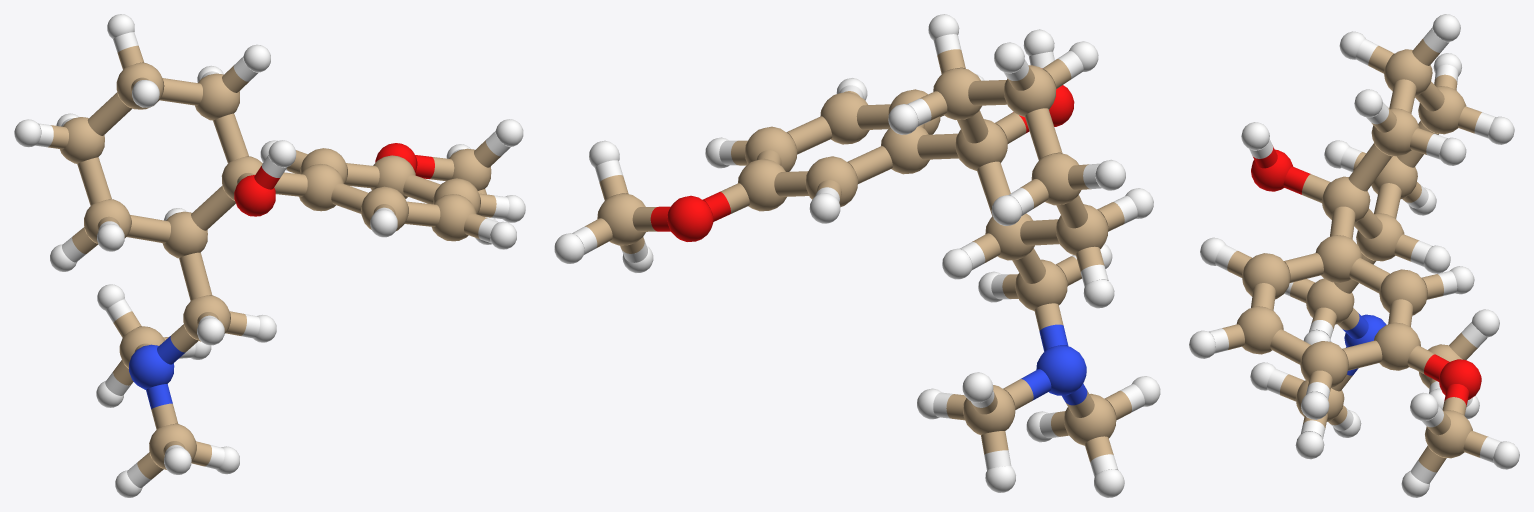
Rendered from Tramadol.fbx.
The picture shows the model from 3 angles, left to right: view 1: azimuth 30°, elevation 25°; view 2: azimuth 150°, elevation 25°; view 3: azimuth 270°, elevation 25°; orthographic projection. The views are drawn at different scales.
Visible parts, largest first — view 1: subnode_2, subnode_3, subnode_16, subnode_10, subnode_6, subnode_7, subnode_0, subnode_12, subnode_8, subnode_5, subnode_9, subnode_13 (+28 smaller); view 2: subnode_2, subnode_16, subnode_15, subnode_1, subnode_18, subnode_7, subnode_6, subnode_9, subnode_13, subnode_8, subnode_4, subnode_5 (+30 smaller); view 3: subnode_16, subnode_10, subnode_15, subnode_12, subnode_17, subnode_11, subnode_8, subnode_4, subnode_9, subnode_6, subnode_7, subnode_18 (+54 smaller).
Boxes of the visible parts, x1,y1,x2,y2 form: subnode_2: (129,344,174,389); subnode_3: (162,211,207,258); subnode_16: (431,194,476,241); subnode_10: (299,164,343,211); subnode_6: (195,73,239,120); subnode_7: (60,117,104,163); subnode_0: (234,175,275,216); subnode_12: (361,186,407,230); subnode_8: (116,62,163,109); subnode_5: (84,199,130,243); subnode_9: (183,295,230,341); subnode_13: (149,424,195,469); subnode_2: (1036,345,1086,395); subnode_16: (820,92,869,144); subnode_15: (738,158,786,211); subnode_1: (667,195,713,241); subnode_18: (597,193,645,245); subnode_7: (1031,153,1081,205); subnode_6: (933,68,981,119); subnode_9: (1015,259,1067,310); subnode_13: (1064,393,1116,445); subnode_8: (1004,65,1056,116); subnode_4: (955,119,1007,170); subnode_5: (1056,204,1108,255); subnode_16: (1236,306,1283,354); subnode_10: (1315,235,1362,283); subnode_15: (1374,322,1420,370); subnode_12: (1242,253,1290,299); subnode_17: (1300,341,1348,387); subnode_11: (1379,269,1427,315); subnode_8: (1384,49,1432,95); subnode_4: (1322,176,1370,222); subnode_9: (1306,278,1354,324); subnode_6: (1371,108,1419,156); subnode_7: (1418,86,1466,134); subnode_18: (1425,410,1472,458).
Size of the model in its own units: 10.11 by 8.52 by 5.78.
